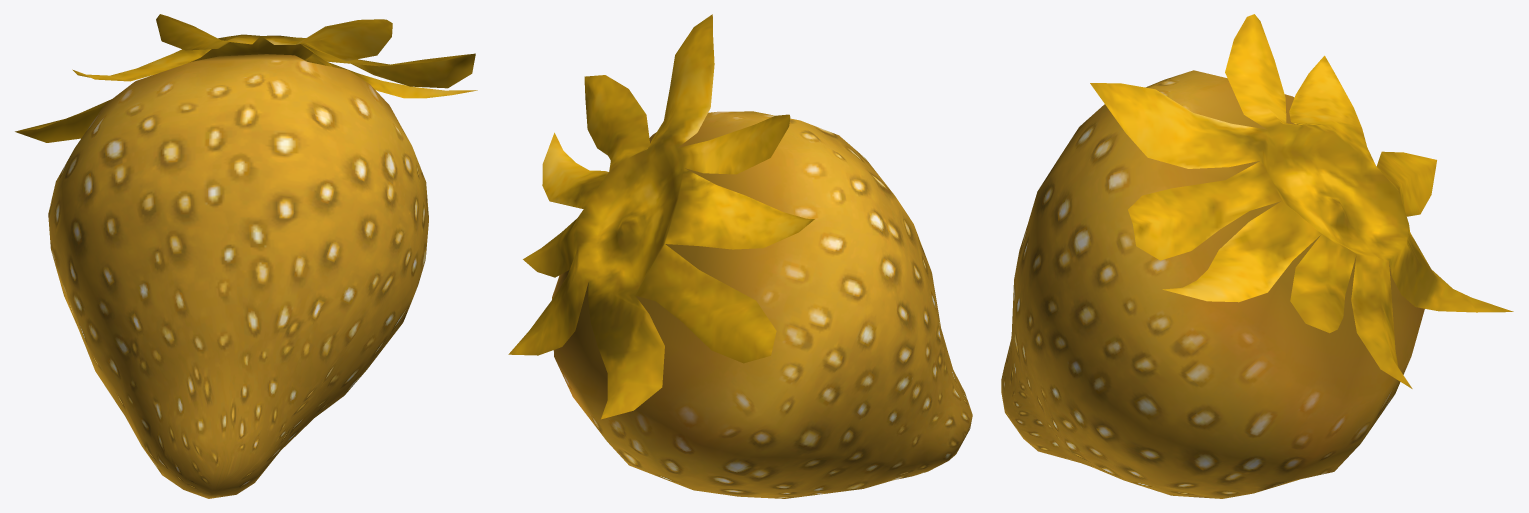
The model's file is gold.glb.
3 renders of one model, left to right at view 1: azimuth 30°, elevation 25°; view 2: azimuth 150°, elevation 25°; view 3: azimuth 270°, elevation 25°, orthographic. The views are drawn at different scales.
Parts seen in each view (by area): view 1: Object_4, Object_5; view 2: Object_4, Object_5; view 3: Object_4, Object_5.
Part boxes in pixels (x1=…): Object_4: x1=48, y1=54, x2=428, y2=498; Object_5: x1=15, y1=14, x2=477, y2=142; Object_4: x1=552, y1=111, x2=972, y2=498; Object_5: x1=508, y1=14, x2=814, y2=419; Object_4: x1=1001, y1=70, x2=1424, y2=498; Object_5: x1=1090, y1=14, x2=1513, y2=388.
Bounding box in the file's own units: 42.2 × 44.33 × 44.3.
Materials: 2 (2 with a texture image).
